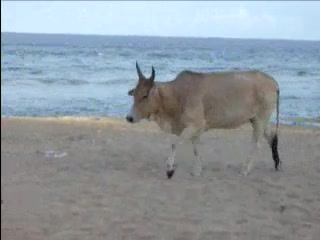cow: (124, 62, 282, 176)
